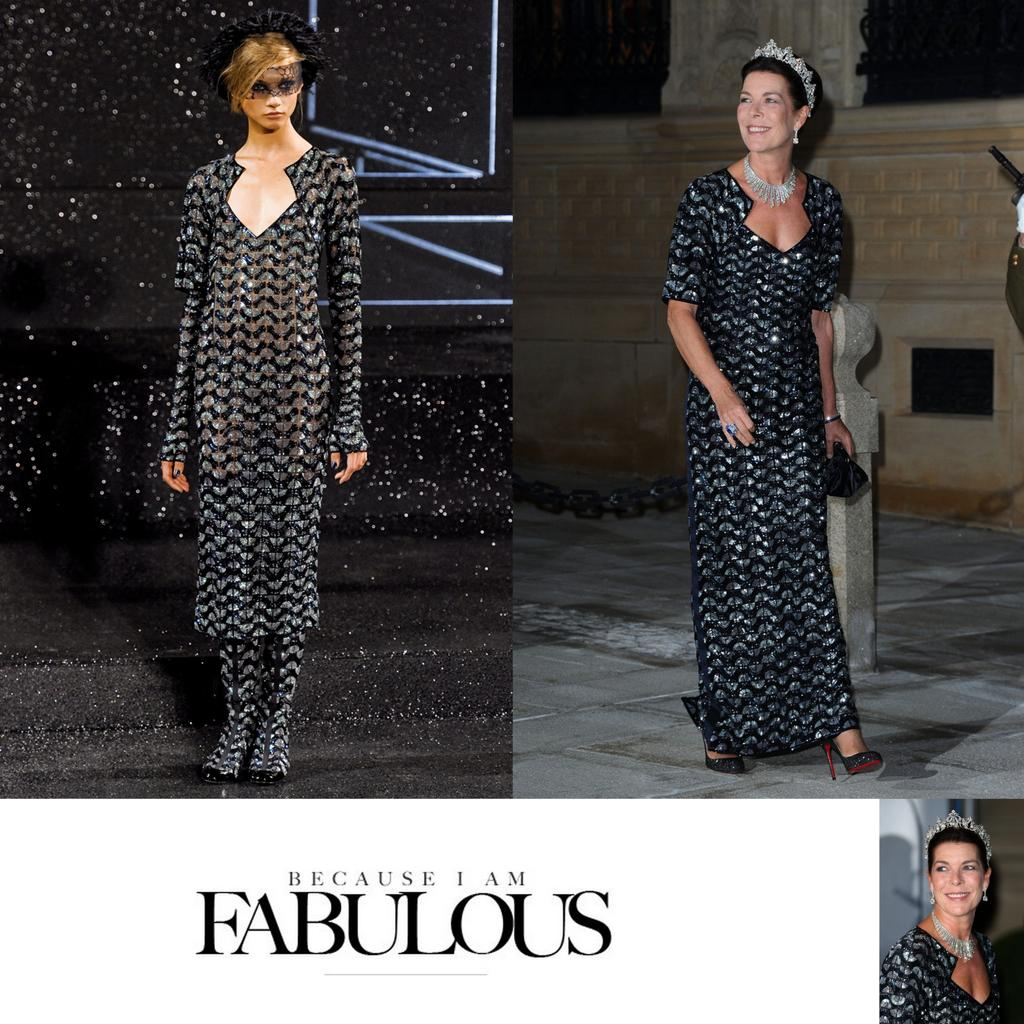face: (240, 48, 298, 130), (738, 74, 800, 150), (930, 844, 988, 916)
